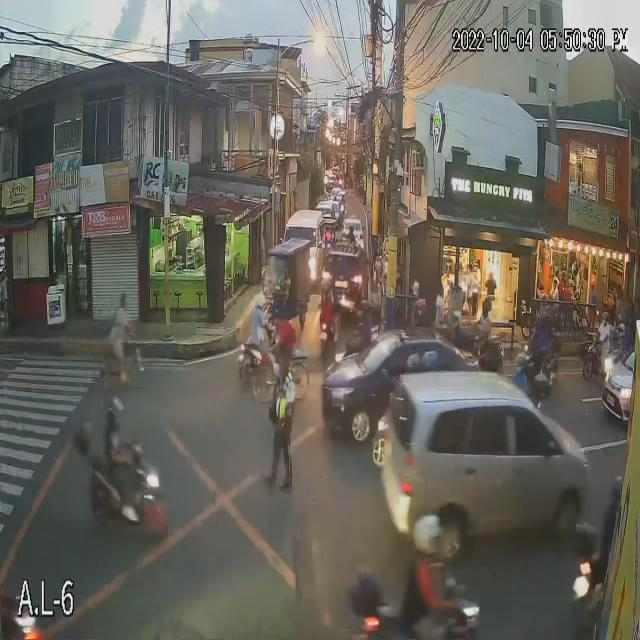helmet: (410, 513, 443, 559), (100, 395, 128, 438), (413, 296, 436, 322), (354, 297, 375, 320), (535, 309, 556, 332), (477, 295, 496, 320), (315, 270, 335, 293), (614, 323, 632, 344), (251, 292, 270, 311), (593, 309, 612, 327)
motorcycle: (350, 570, 495, 640), (81, 431, 166, 539), (512, 342, 568, 399), (234, 327, 286, 386), (315, 303, 340, 364), (579, 344, 614, 379)
rider: (396, 508, 453, 623), (96, 393, 136, 479), (247, 293, 277, 343), (530, 310, 556, 361), (357, 294, 377, 352), (482, 297, 503, 344), (592, 302, 615, 344), (408, 294, 432, 333), (317, 271, 337, 317), (613, 317, 633, 353)
